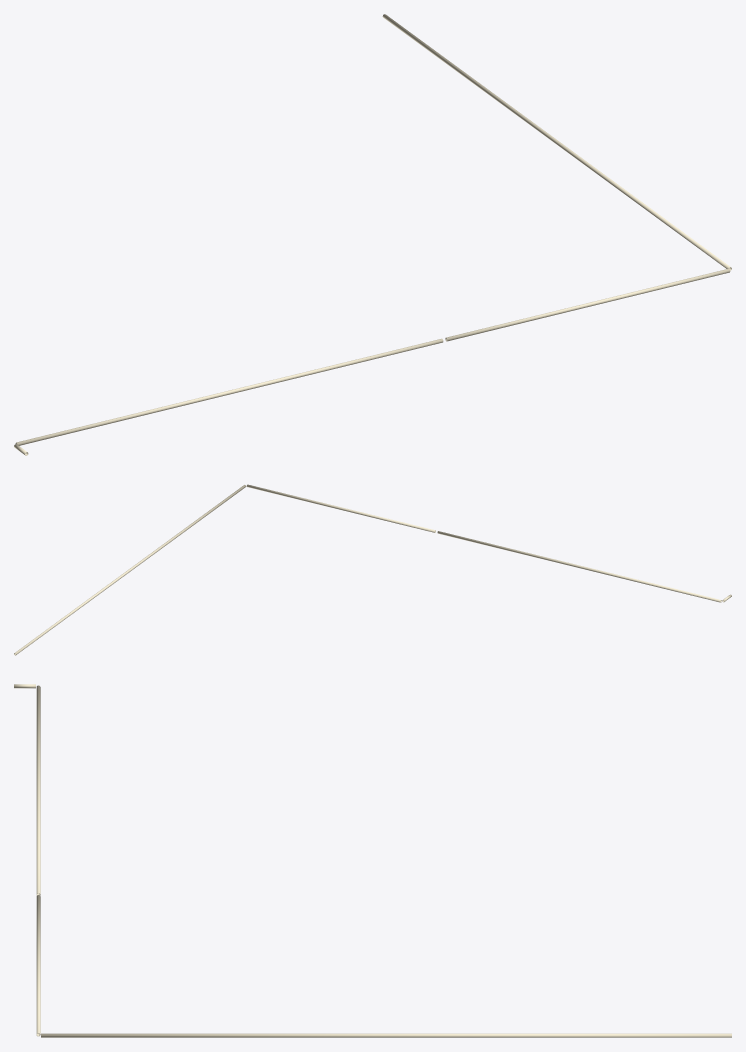
The model's file is pipes_supply__plumbing__9c0e9e72.glb.
The picture shows the model from 3 angles, top to bottom: view 1: azimuth 30°, elevation 25°; view 2: azimuth 150°, elevation 25°; view 3: azimuth 270°, elevation 25°; orthographic projection. The views are drawn at different scales.
Parts seen in each view (by area): view 1: pipe_supply_cold_trunk_flo_s; view 2: pipe_supply_cold_trunk_flo_s; view 3: pipe_supply_cold_trunk_flo_s.
Boxes of the visible parts, box(x1,y1,x2,y2) form: pipe_supply_cold_trunk_flo_s: box(14, 14, 731, 455); pipe_supply_cold_trunk_flo_s: box(14, 484, 731, 655); pipe_supply_cold_trunk_flo_s: box(14, 684, 731, 1037).
Bounding box in the file's own units: 4.59 × 0.0222 × 3.97.
